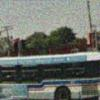buses: (0, 51, 100, 100)
